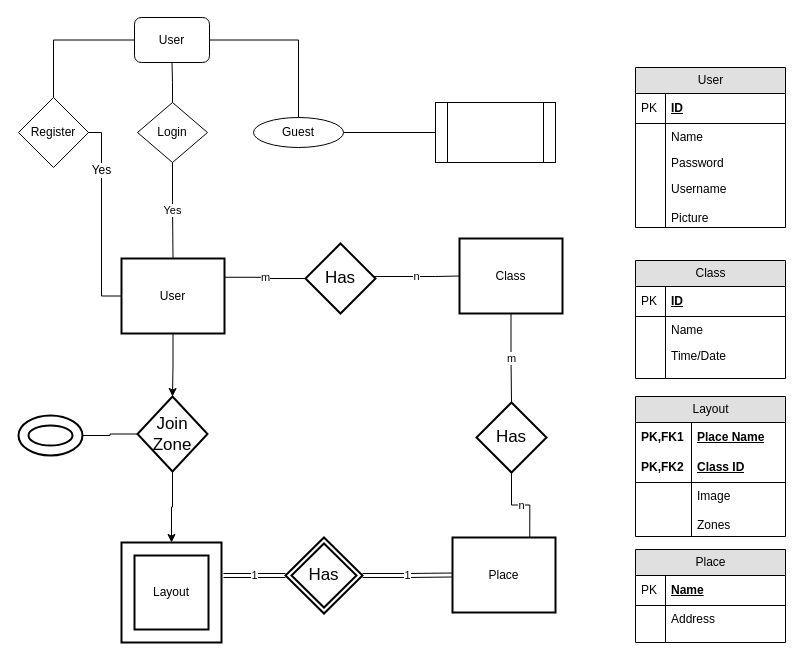
This 803x661 diagram has some shape labels left out. The centre of each missing label's shape, as x and y in pixels:
Register Page: point (495, 132)
Zone: point (50, 435)
